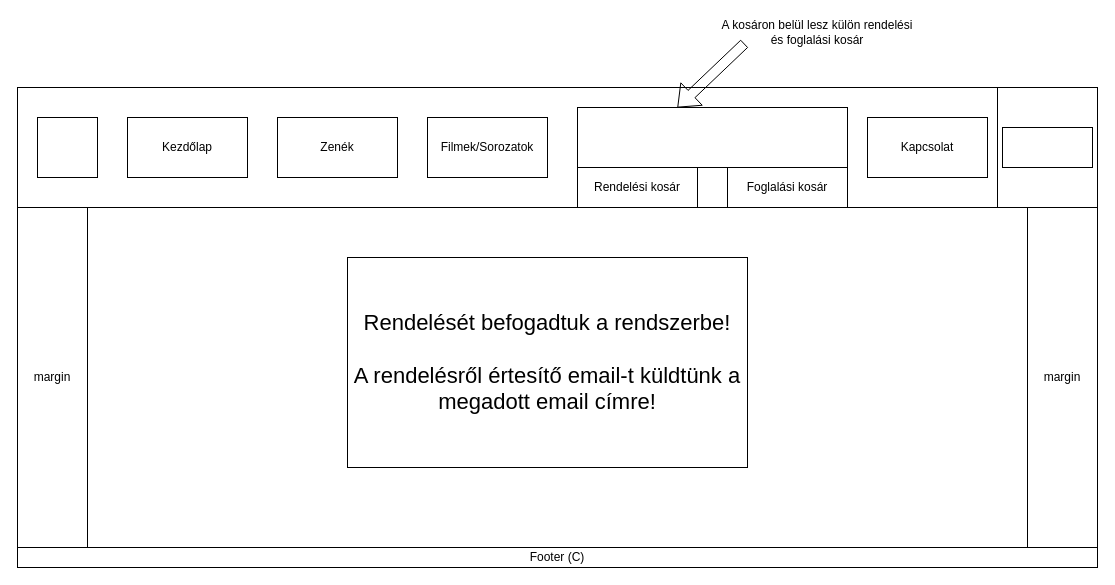
The diagram is 1115 pixels wide and 585 high, and some of its shapes have lost their labels. Here are the shapes that lost their labels. From the top down, the centre of each, then its label:
At (67,147): "Logo".
At (712,137): "Kosár".
At (1047,147): "Fiók bej/reg".
